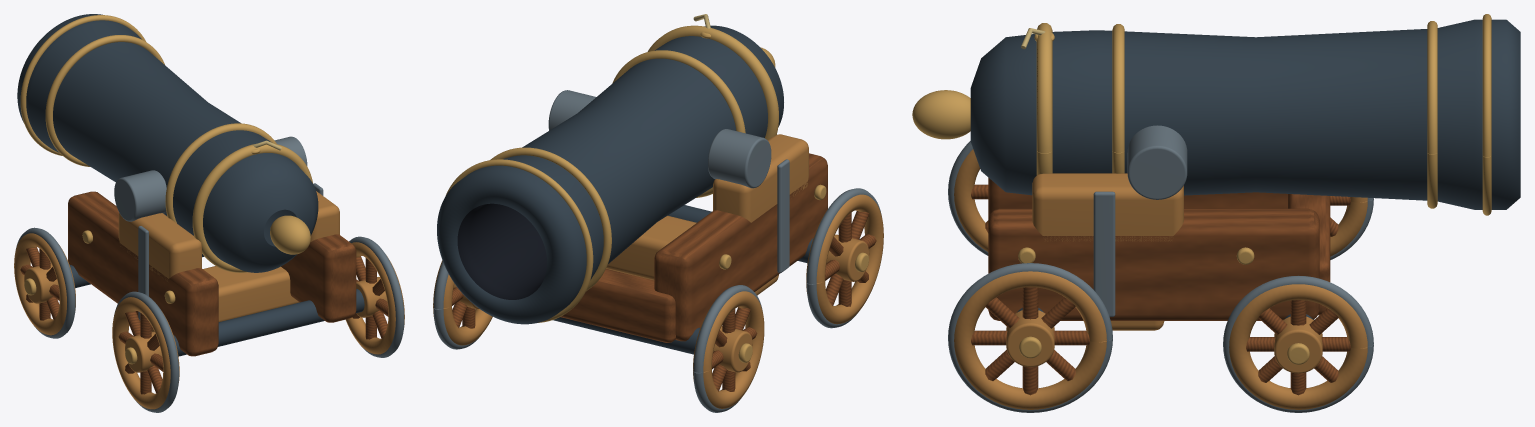
File: cannon.glb
The picture shows the model from 3 angles, left to right: view 1: azimuth 30°, elevation 25°; view 2: azimuth 150°, elevation 25°; view 3: azimuth 270°, elevation 25°; orthographic projection. The views are drawn at different scales.
Parts seen in each view (by area): view 1: Carriage, Barrel; view 2: Barrel, Carriage; view 3: Barrel, Carriage.
Boxes of the visible parts, <box> form: Carriage: <box>14,136,404,412</box>; Barrel: <box>17,14,318,272</box>; Barrel: <box>437,14,783,324</box>; Carriage: <box>433,90,883,412</box>; Barrel: <box>912,14,1520,215</box>; Carriage: <box>948,125,1373,412</box>.
Bounding box in the file's own units: 1.13 × 0.992 × 1.72.
7 materials, 1 textured.
